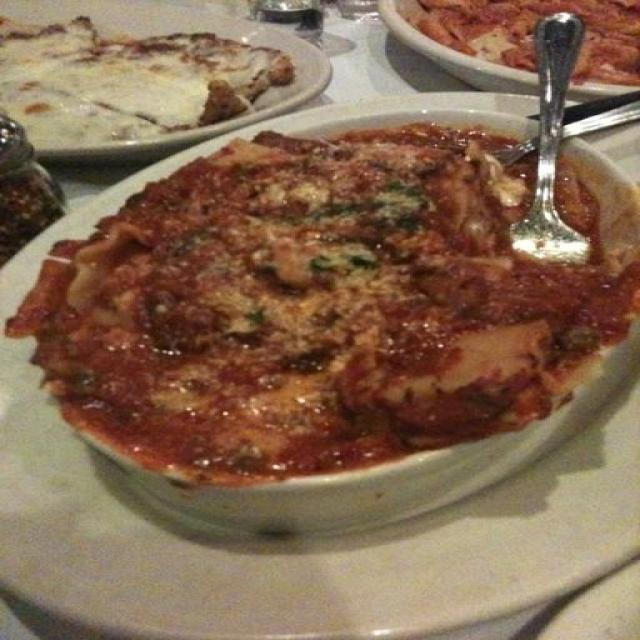Lasagna: (50, 119, 640, 505)
